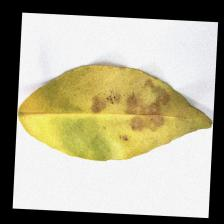canker: (72, 63, 178, 146)
